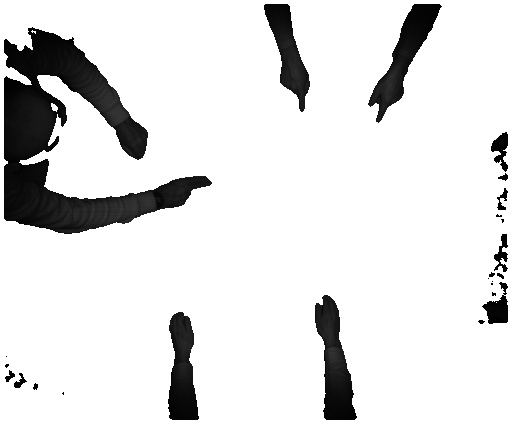fist: (119, 122, 151, 159)
hand: (164, 176, 215, 215), (368, 76, 407, 127), (312, 288, 343, 343), (280, 62, 311, 111), (168, 312, 199, 355)
